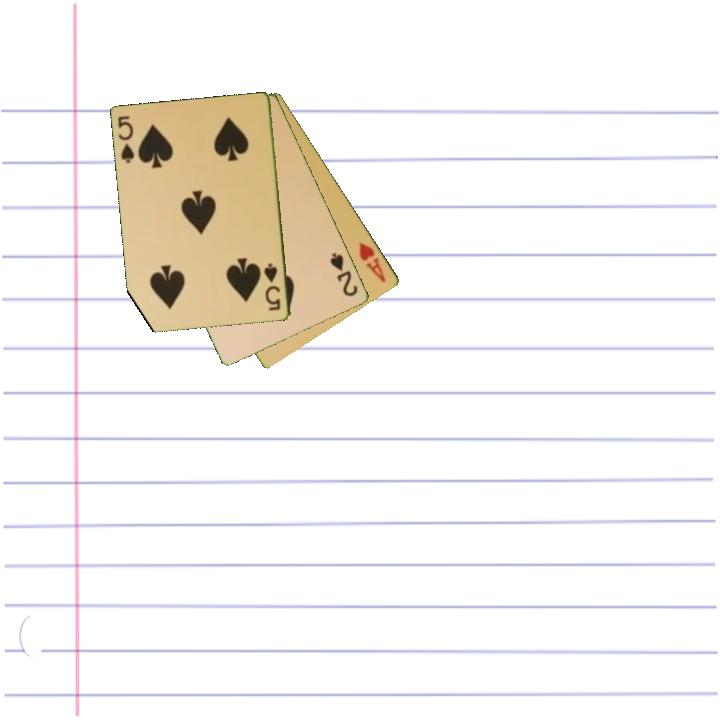2s: (327, 249, 361, 299)
5s: (261, 260, 284, 314), (115, 113, 138, 166)
Ah: (356, 239, 389, 285)
